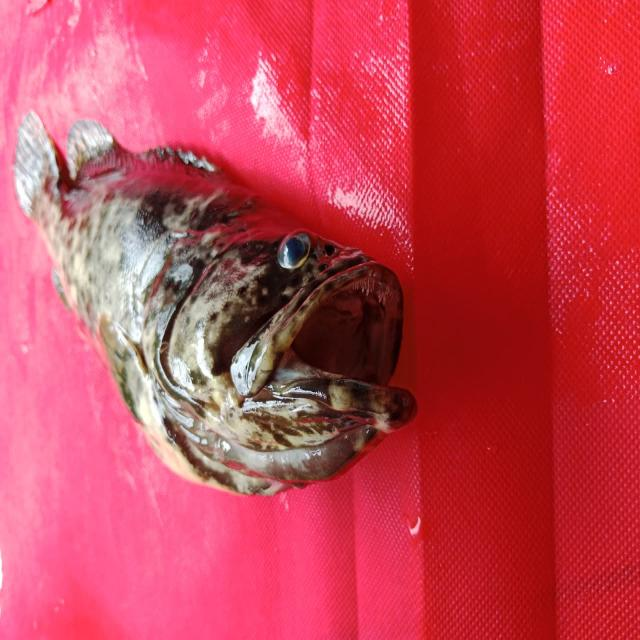ikan: (9, 28, 427, 513)
